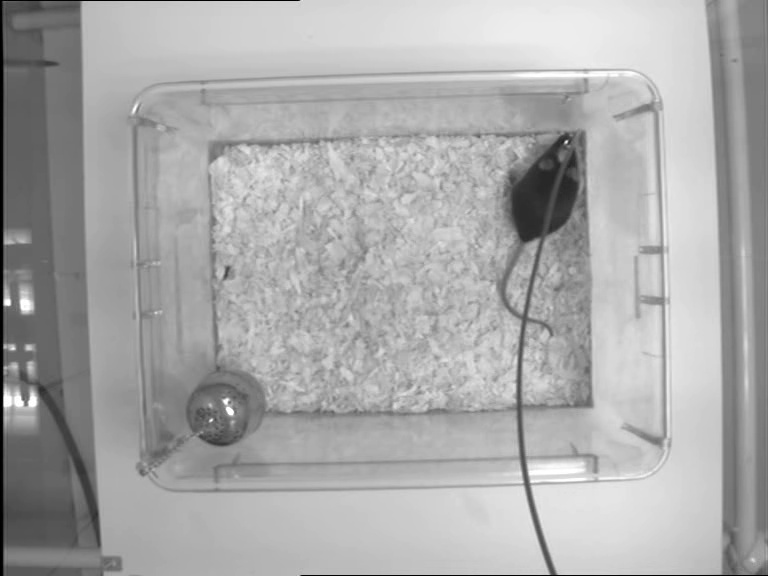mice: (498, 130, 581, 342)
